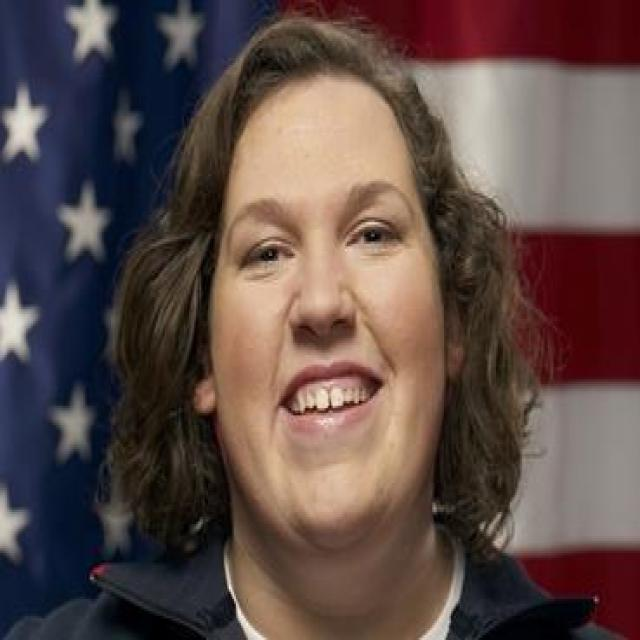0_rostro_limpio: (198, 54, 457, 567)
